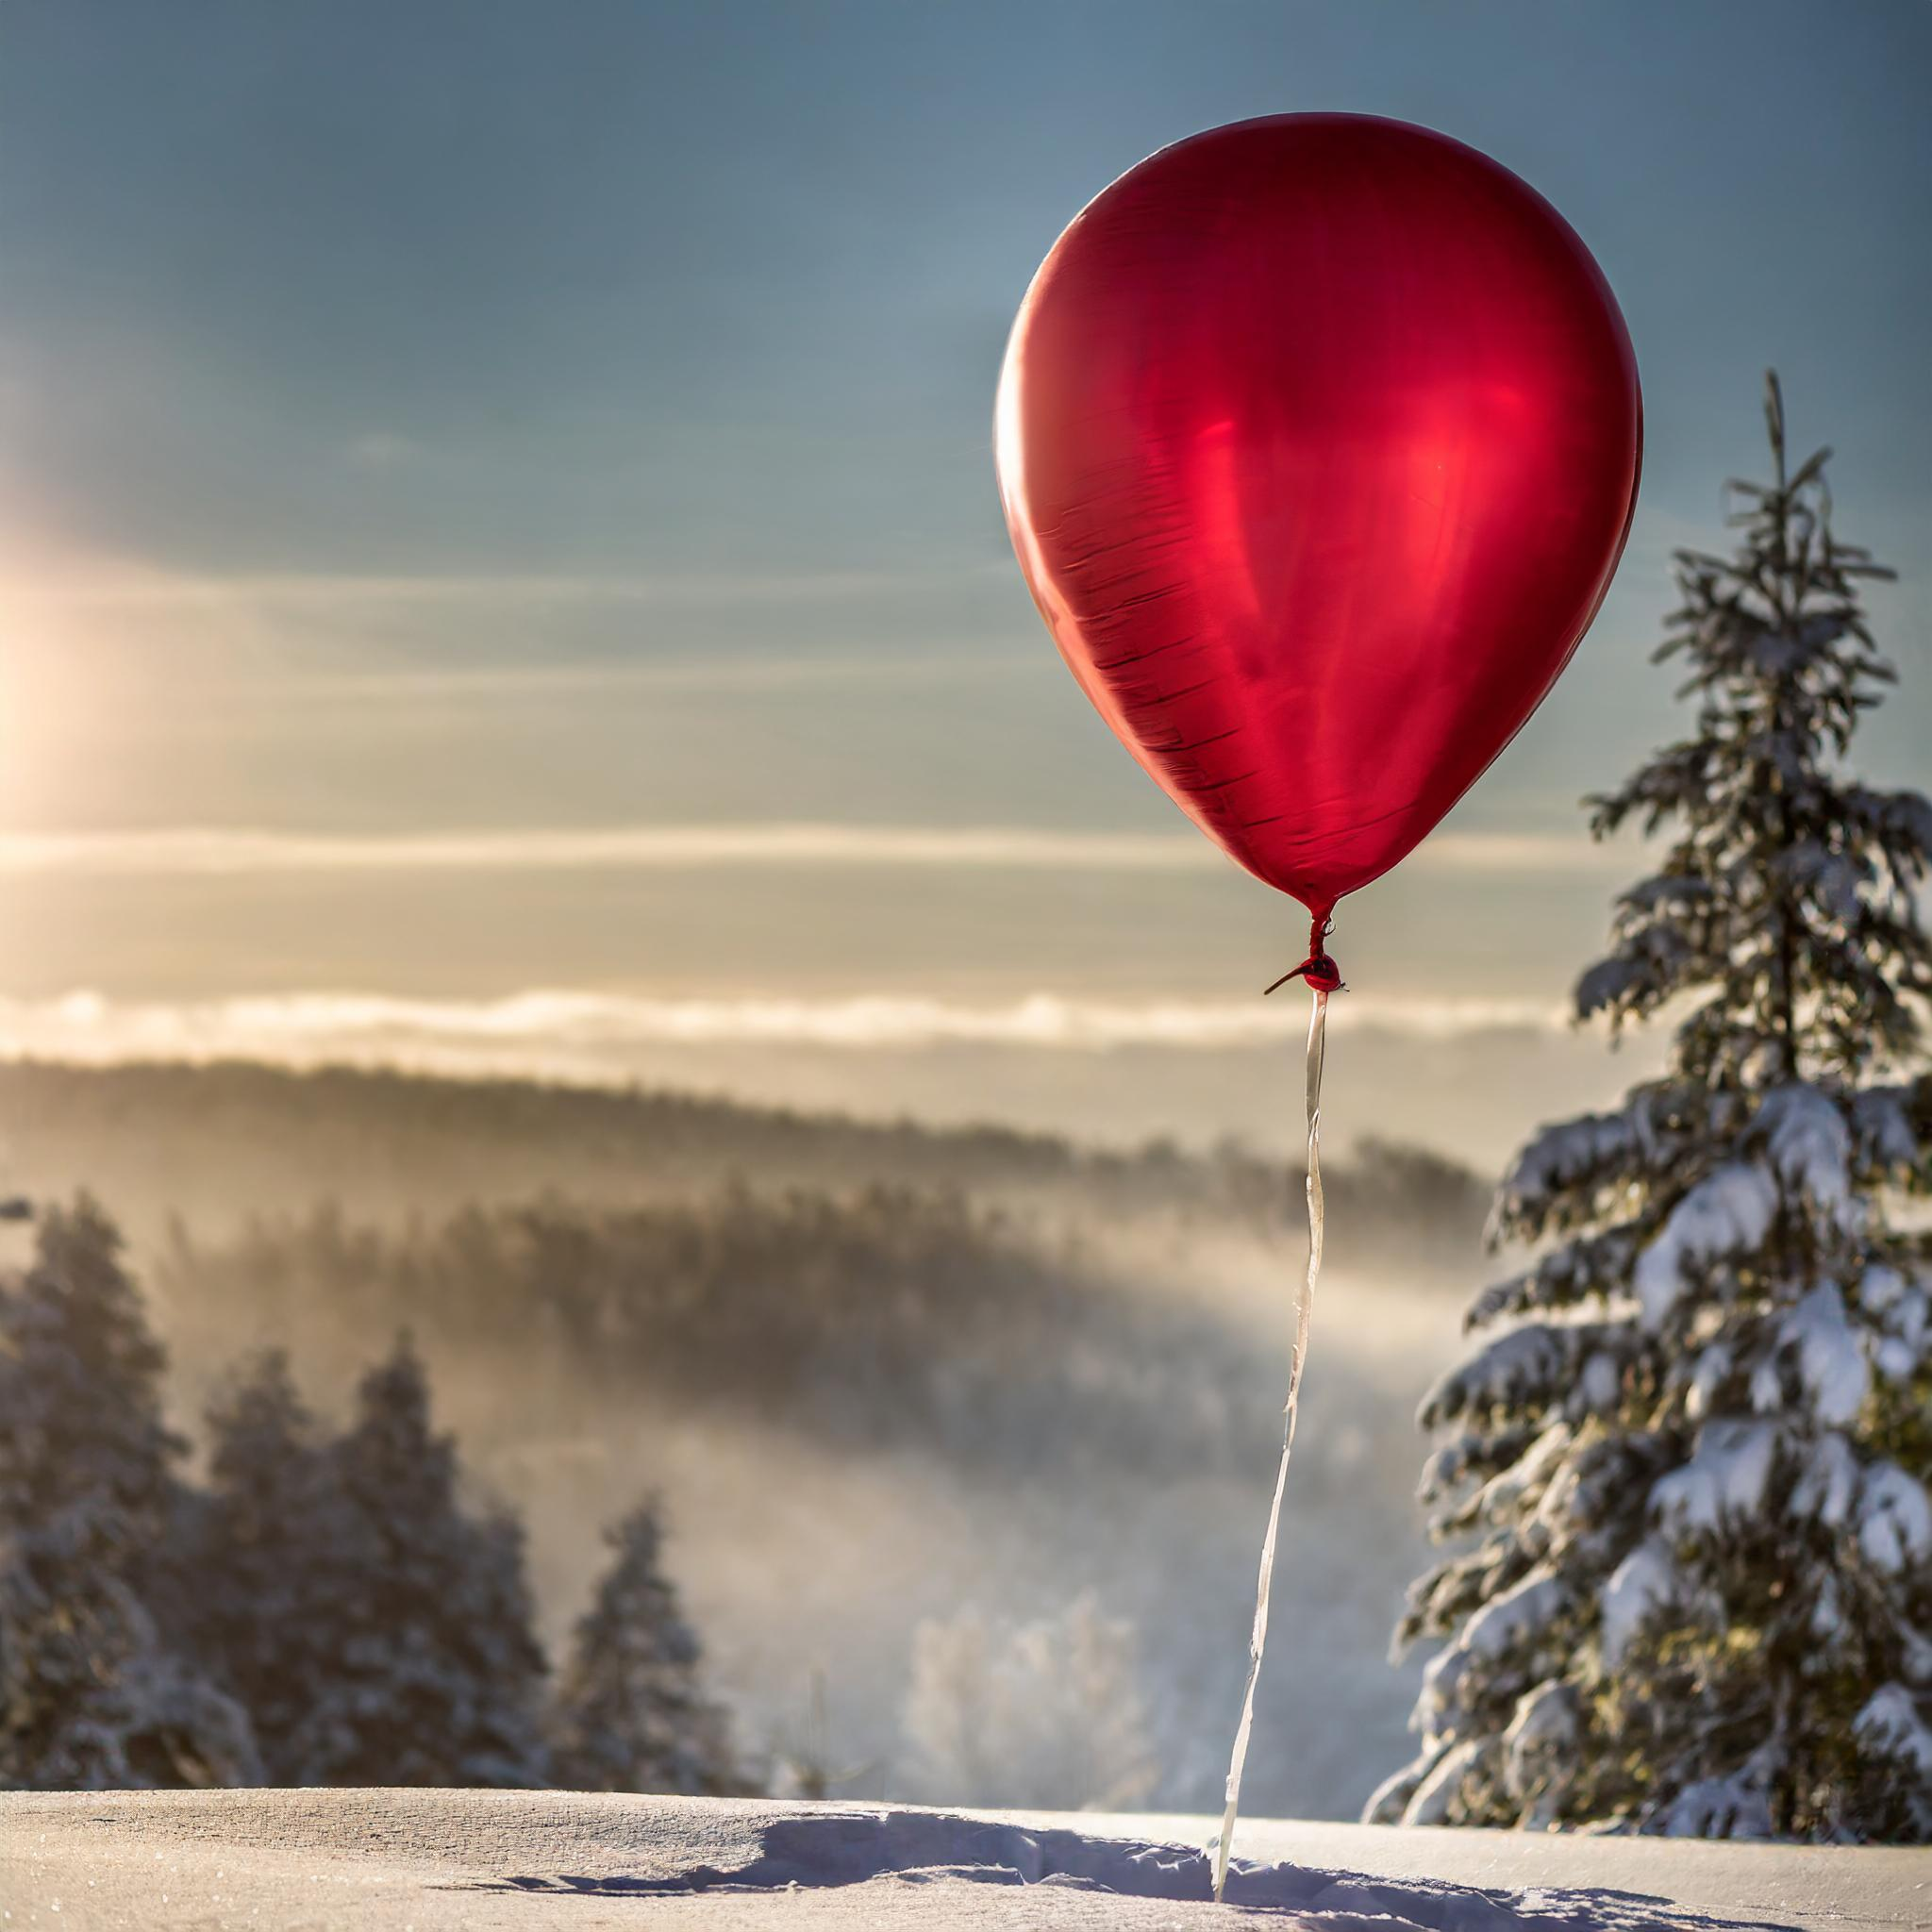red: (977, 87, 1667, 1047)
